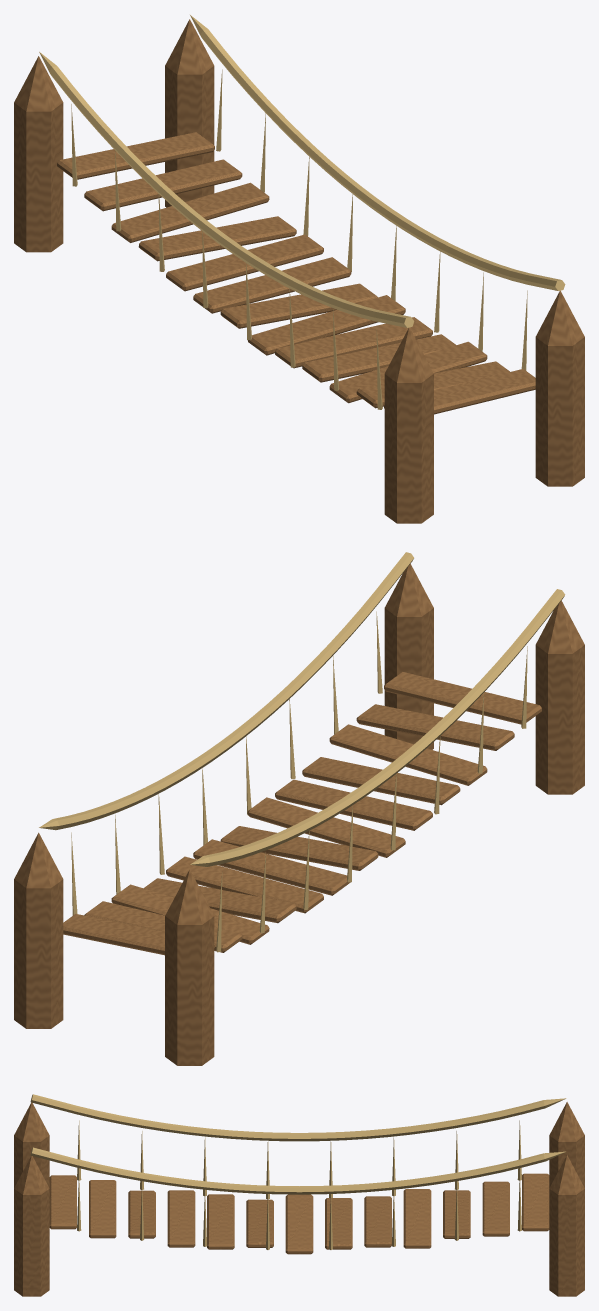
The model's file is RopeBridge.glb.
3 renders of one model, top to bottom at view 1: azimuth 30°, elevation 25°; view 2: azimuth 150°, elevation 25°; view 3: azimuth 270°, elevation 25°, orthographic. The views are drawn at different scales.
Visible parts, largest first — view 1: RopeBridge; view 2: RopeBridge; view 3: RopeBridge.
Part boxes in pixels (x1,y1,x2,y2): RopeBridge: [14, 15, 584, 523]; RopeBridge: [14, 552, 584, 1065]; RopeBridge: [14, 1094, 584, 1296].
Bounding box in the file's own units: 1.99 × 1.99 × 7.25.
1 material, 1 textured.
